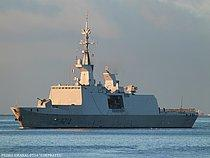MIL_Ship: (10, 25, 201, 130)
